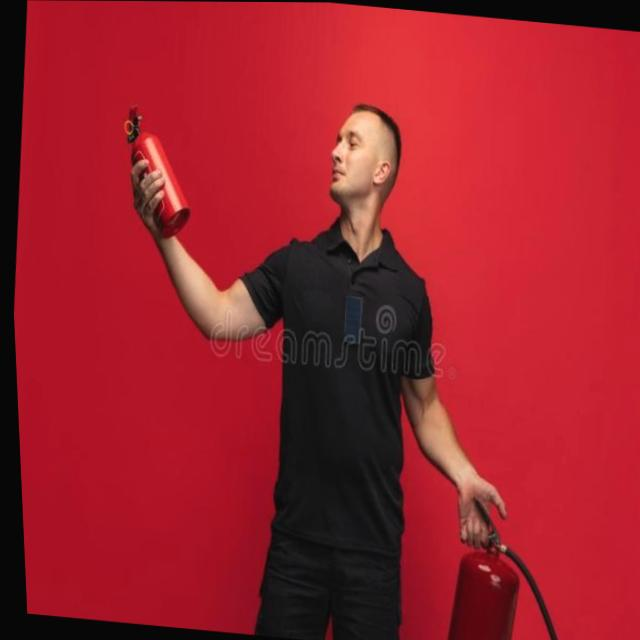FireExtinguisher: (424, 481, 585, 640), (107, 94, 207, 247)
